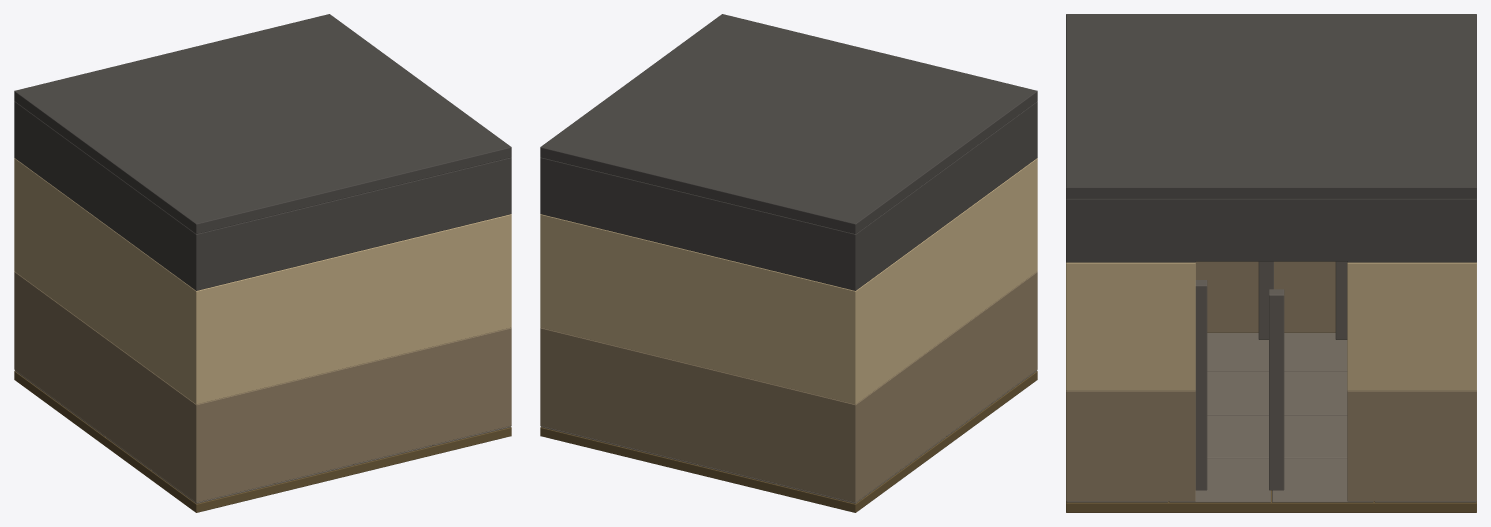
File: gen-scope.glb
3 renders of one model, left to right at view 1: azimuth 30°, elevation 25°; view 2: azimuth 150°, elevation 25°; view 3: azimuth 270°, elevation 25°, orthographic. The views are drawn at different scales.
Parts seen in each view (by area): view 1: THE SCOPE; view 2: THE SCOPE; view 3: THE SCOPE.
Boxes of the visible parts, left/top/right/bottom form: THE SCOPE: left=14, top=14, right=511, bottom=512; THE SCOPE: left=540, top=14, right=1037, bottom=512; THE SCOPE: left=1066, top=14, right=1476, bottom=512.
Bounding box in the file's own units: 3.2 × 2.8 × 3.2.
